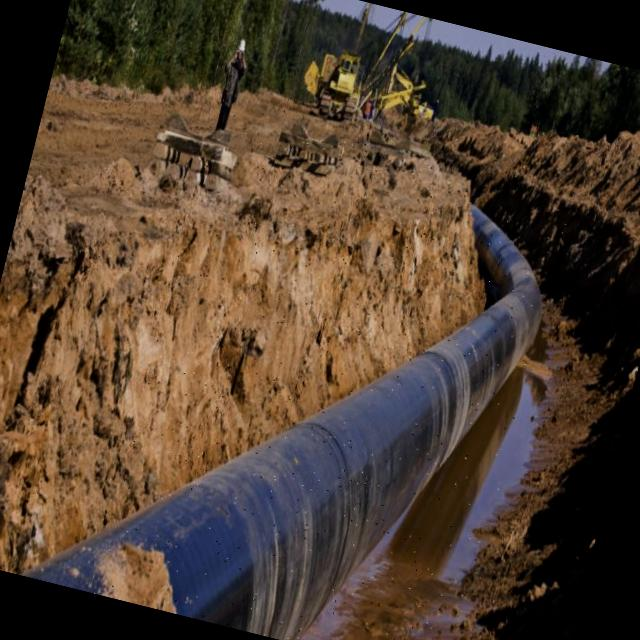gas: (21, 209, 540, 640)
